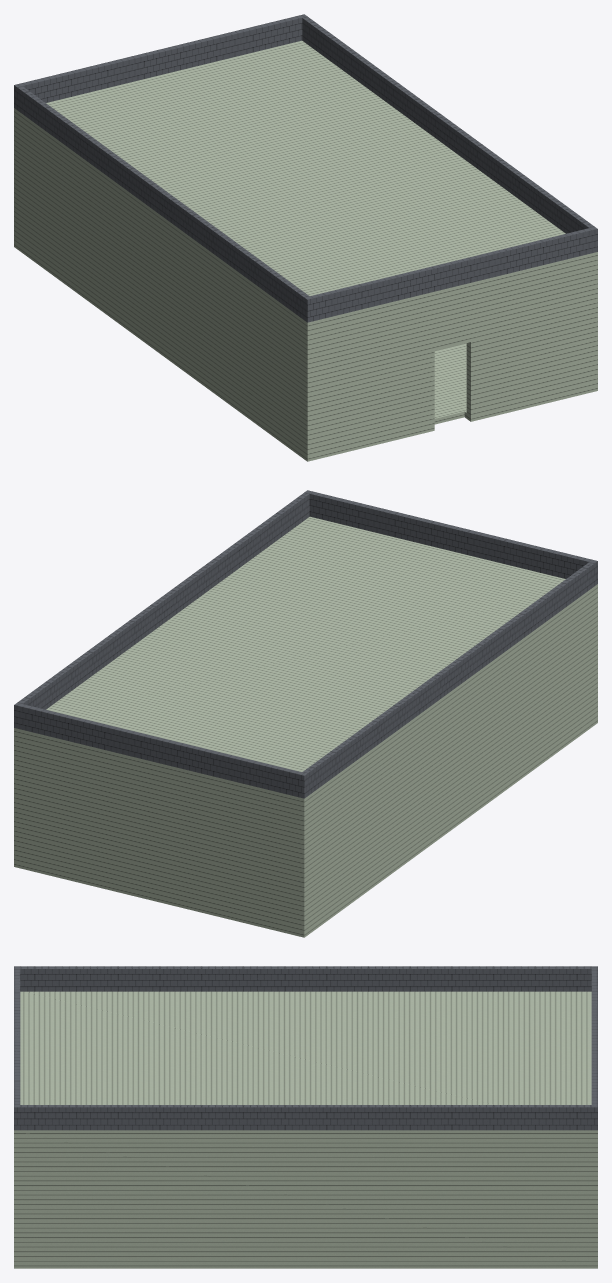
The model's file is law_office.glb.
The picture shows the model from 3 angles, top to bottom: view 1: azimuth 30°, elevation 25°; view 2: azimuth 150°, elevation 25°; view 3: azimuth 270°, elevation 25°; orthographic projection.
Visible parts, largest first — view 1: law_office-col; view 2: law_office-col; view 3: law_office-col.
Boxes of the visible parts, left/top/right/bottom form: law_office-col: left=14, top=14, right=597, bottom=461; law_office-col: left=14, top=490, right=597, bottom=937; law_office-col: left=14, top=966, right=597, bottom=1268.
Bounding box in the file's own units: 8 × 4.26 × 14.
Materials: 2 (2 with a texture image).
